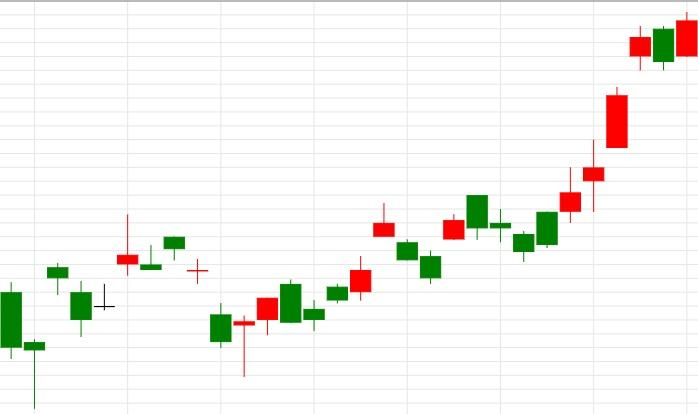bearish_engulfing_fall: (512, 25, 675, 262)
